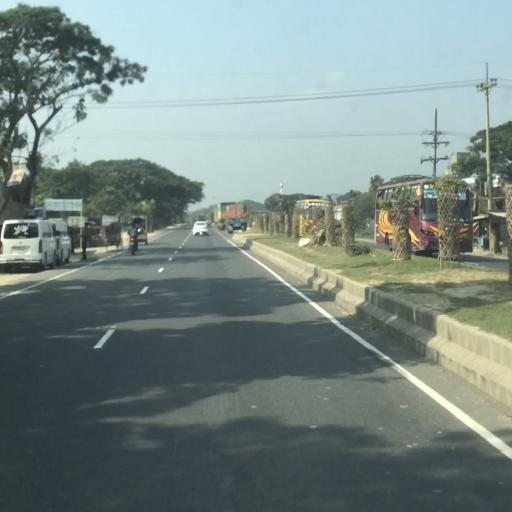bus: (376, 181, 439, 257)
car: (191, 221, 212, 239)
motorbike: (127, 225, 144, 254)
truck: (223, 204, 250, 236)
van: (2, 219, 60, 272)
